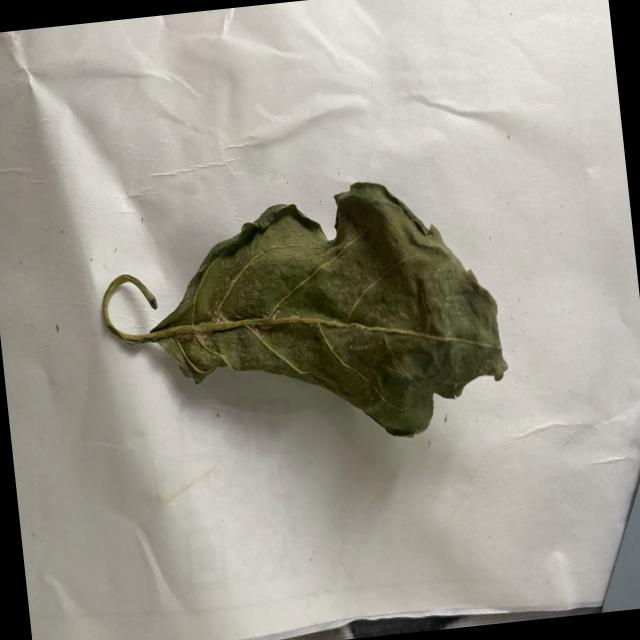Leaf: (142, 165, 514, 464)
